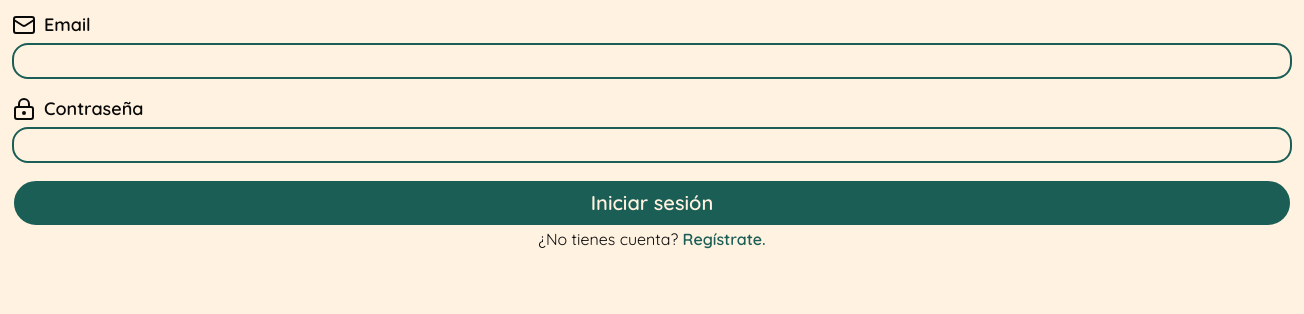
it: Given the LoginForm component › When it renders › And the user submit an empty form › Then it should show validation error messages
The image size is (1304, 314).
Click the button "Iniciar sesión": click(652, 203) [12,179,1292,227]
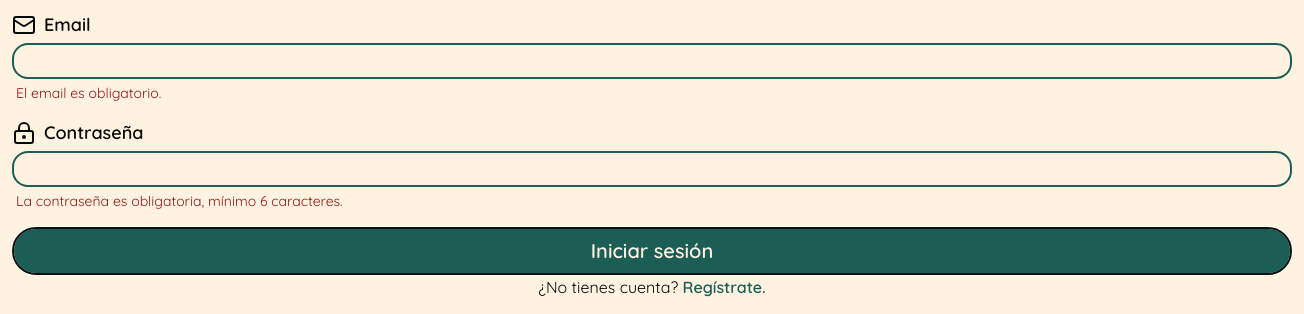
Expected: the text "El email es obligatorio." is shown, [16,84,161,102]
Expected: the text "La contraseña es obligatoria, mínimo 6 caracteres." is shown, [16,192,343,210]
